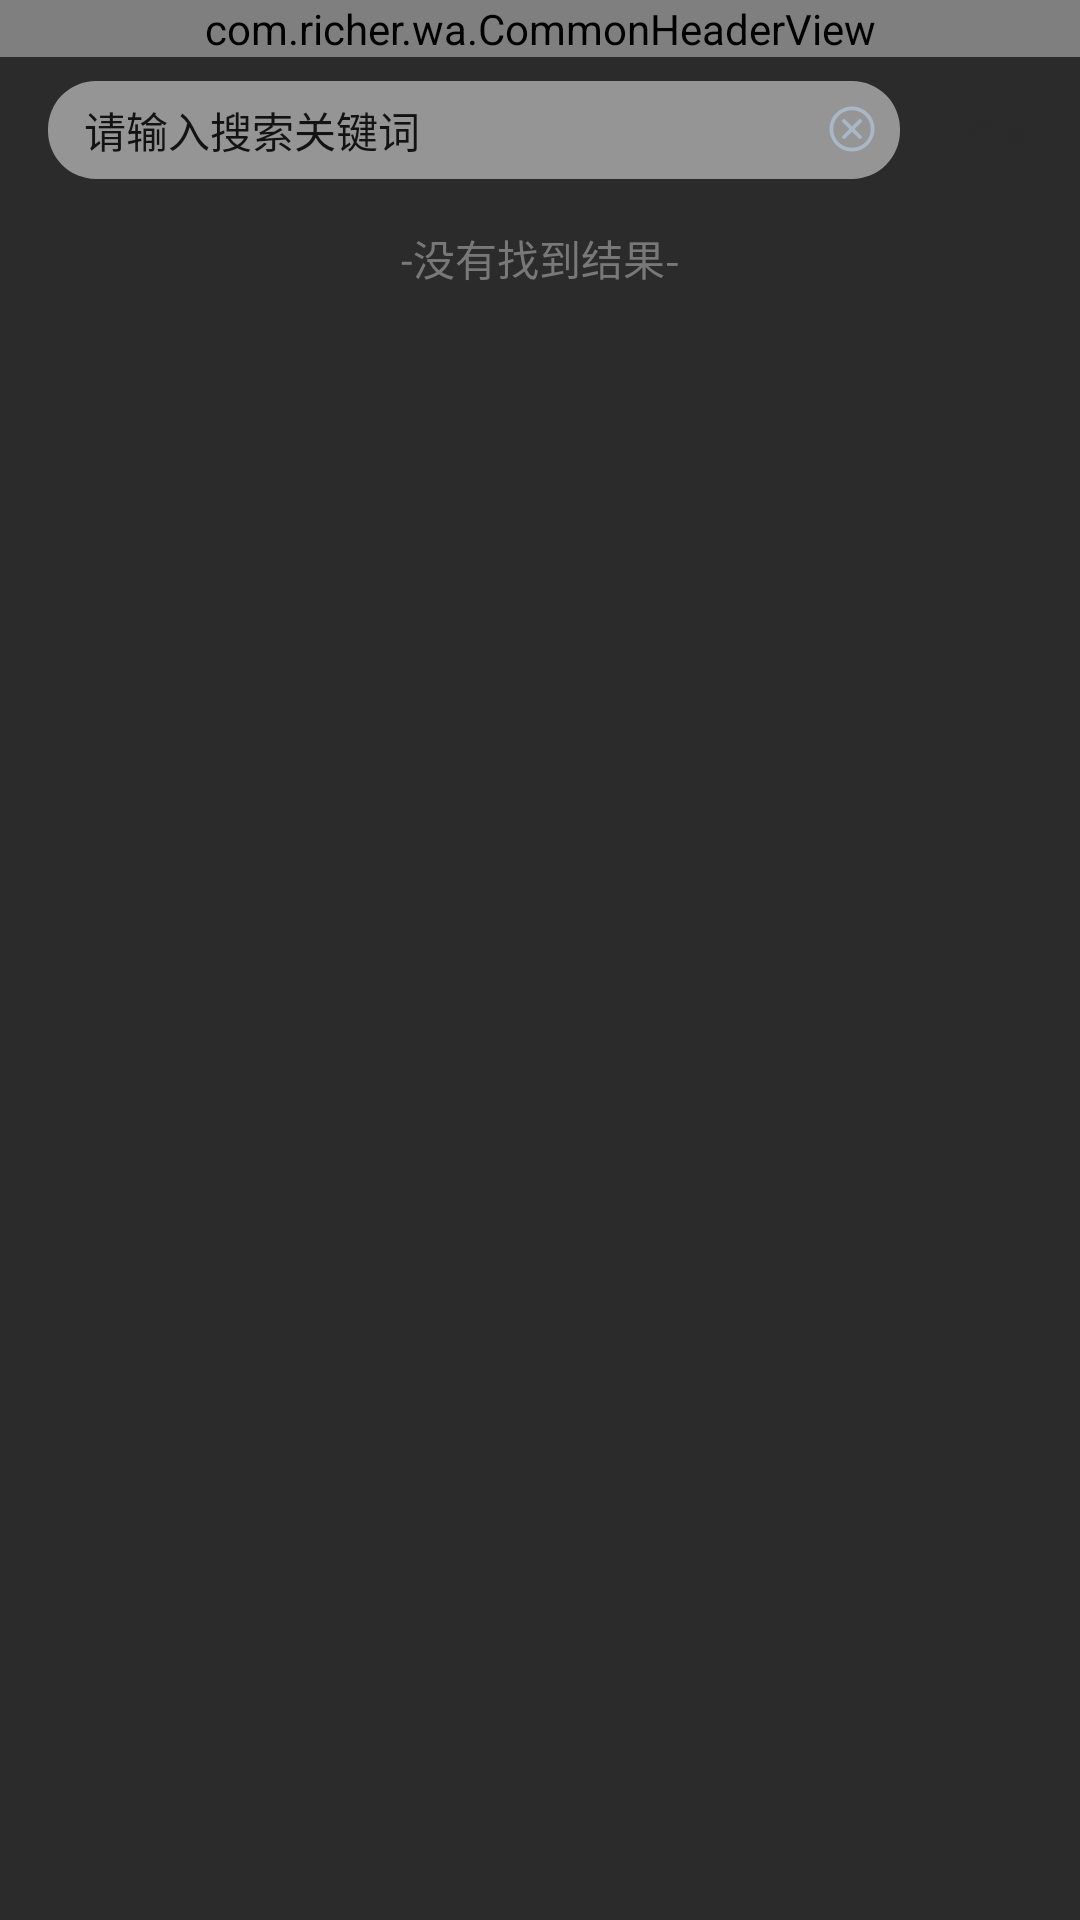

Where icons sit on this 1080 × 1920 app screen, as (x1, y1, x2, y2):
close: (804, 81, 900, 177)
